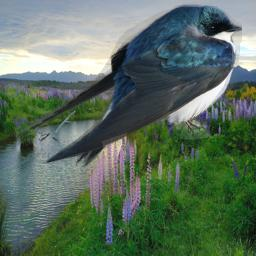Swallow: (15, 3, 242, 167)
